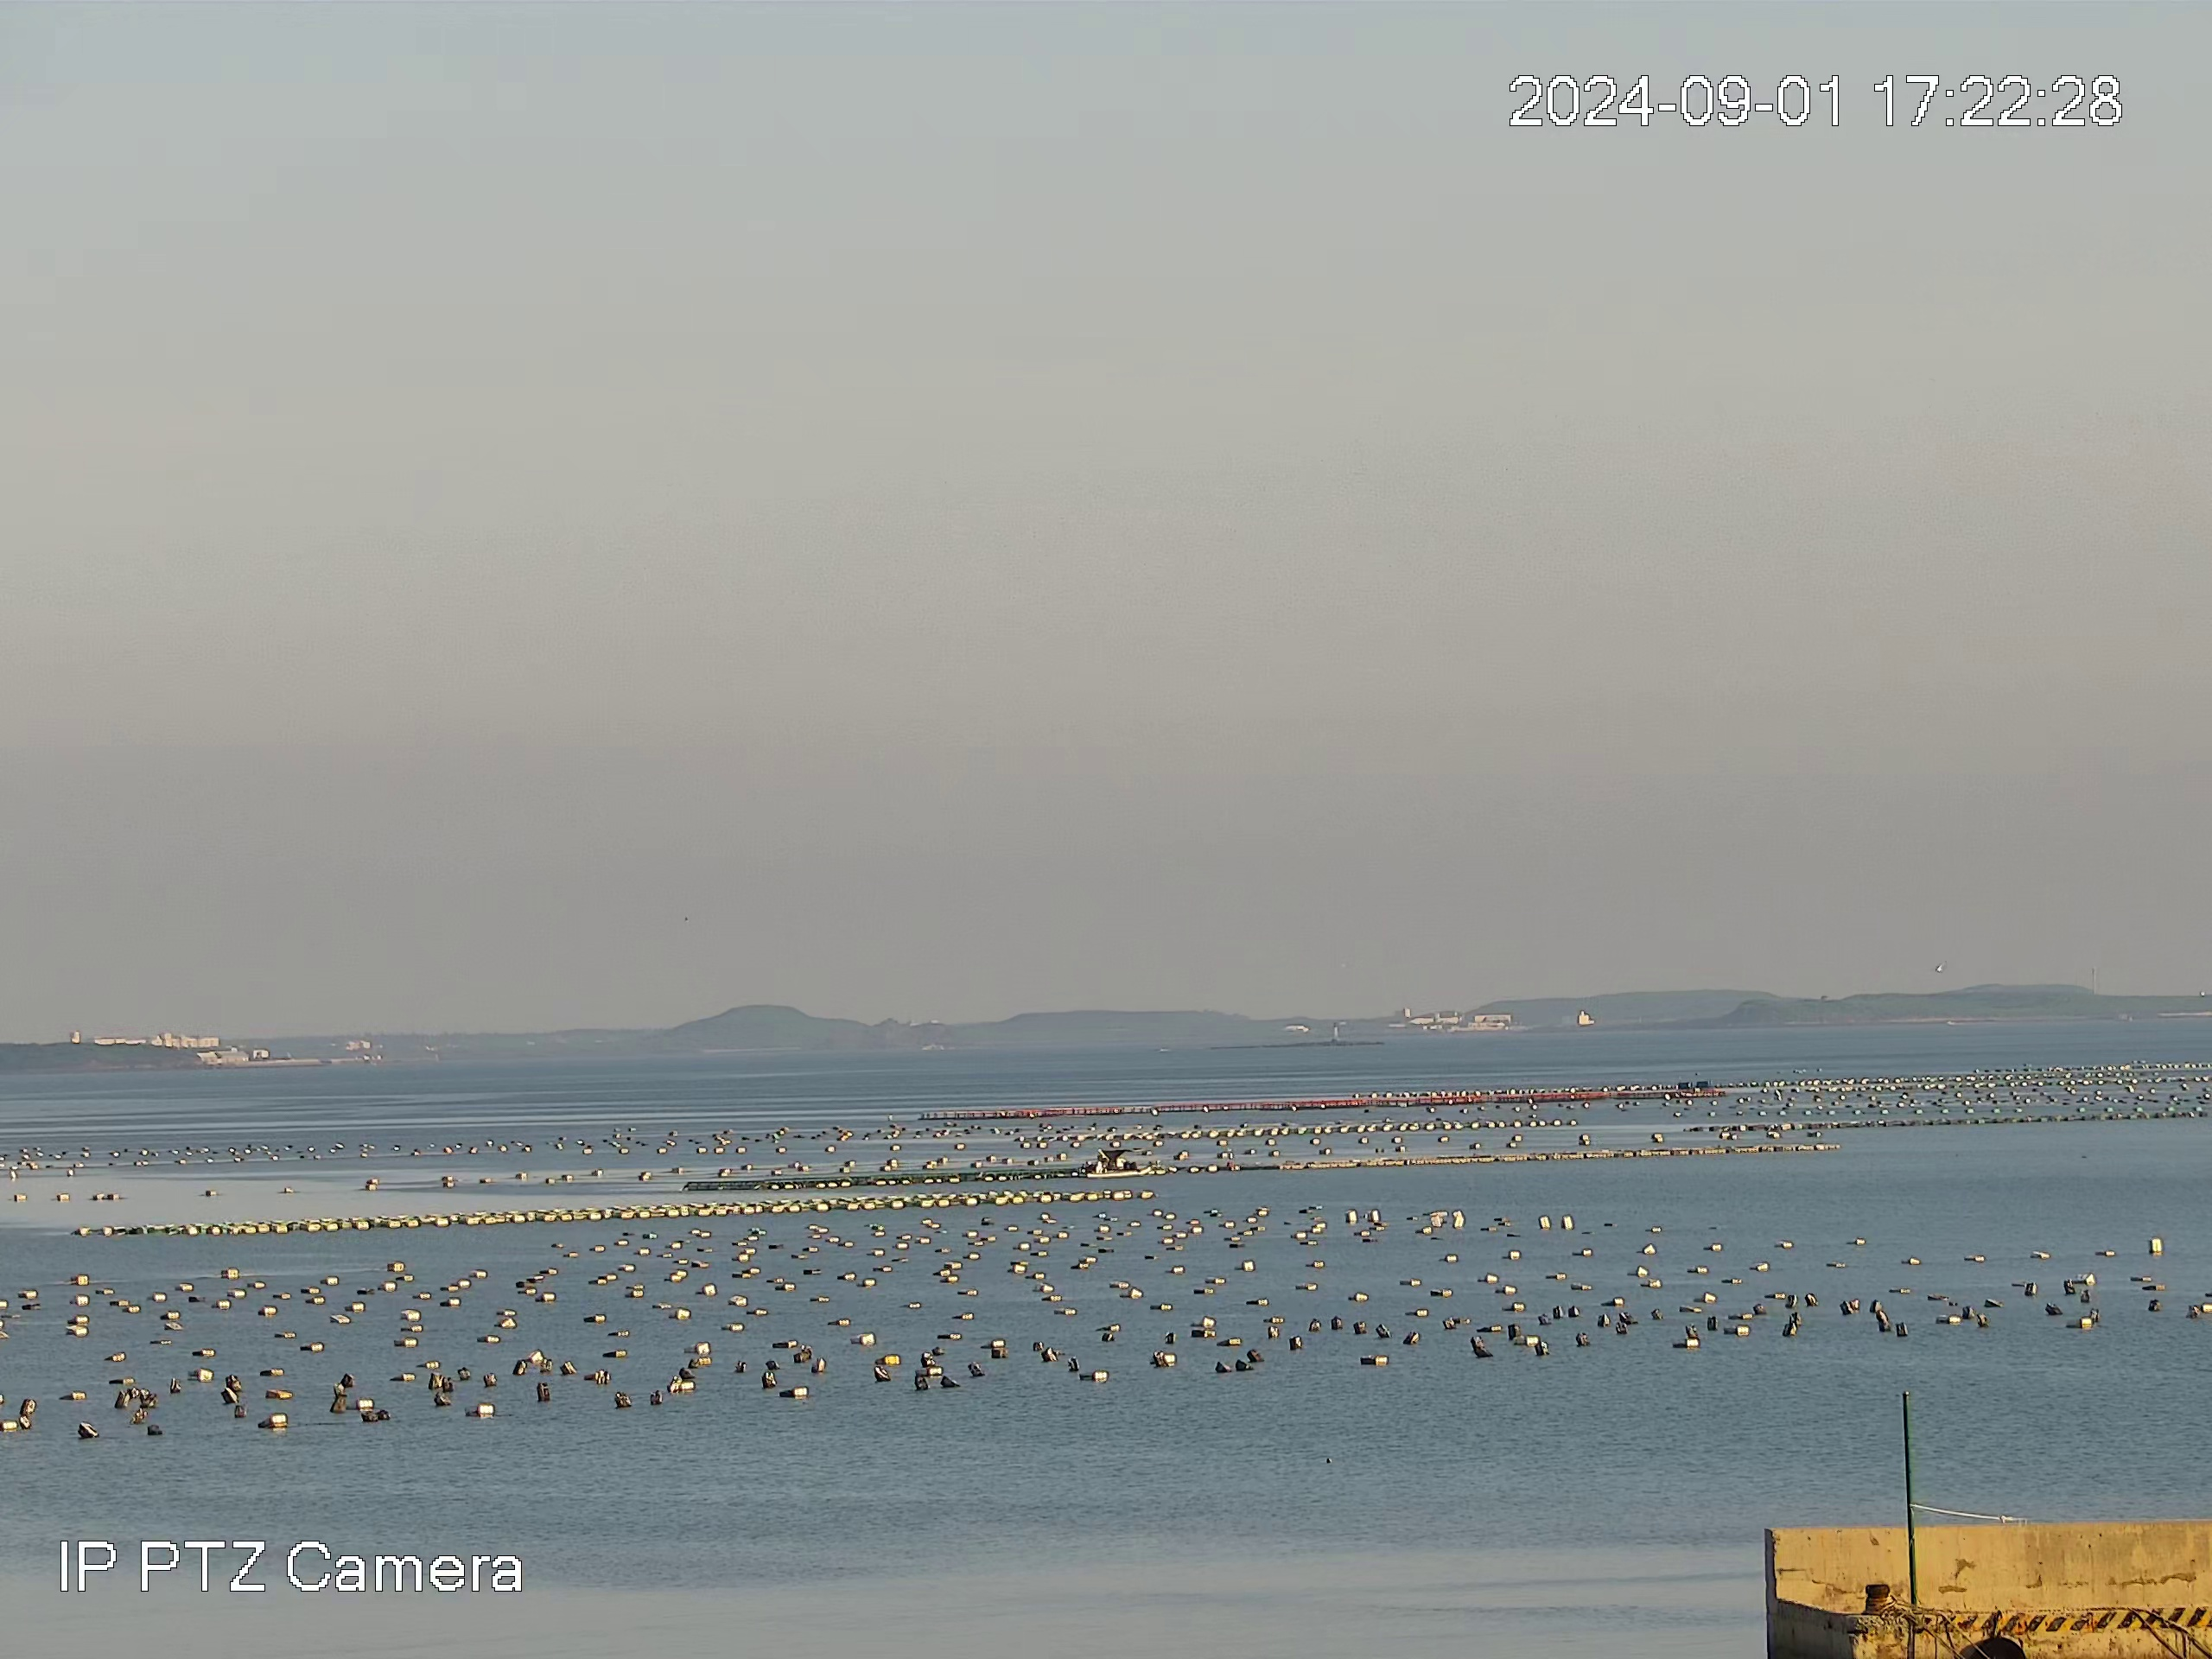boat: (1090, 1141, 1158, 1180)
